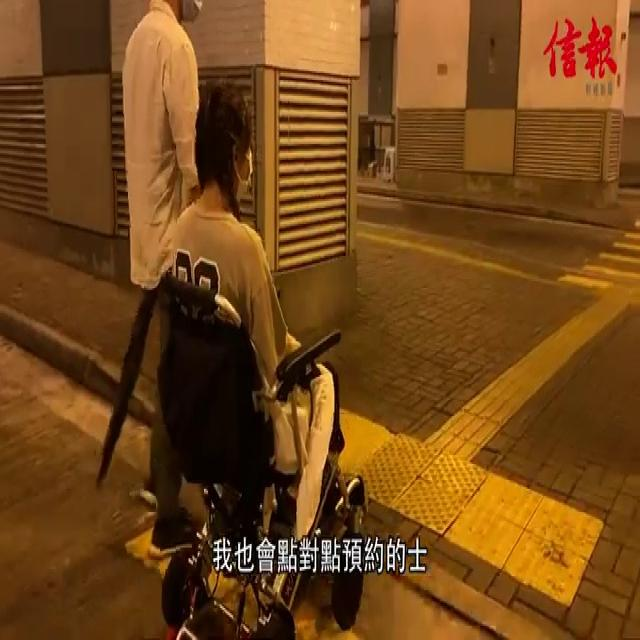wheelchairs: (156, 259, 382, 640)
